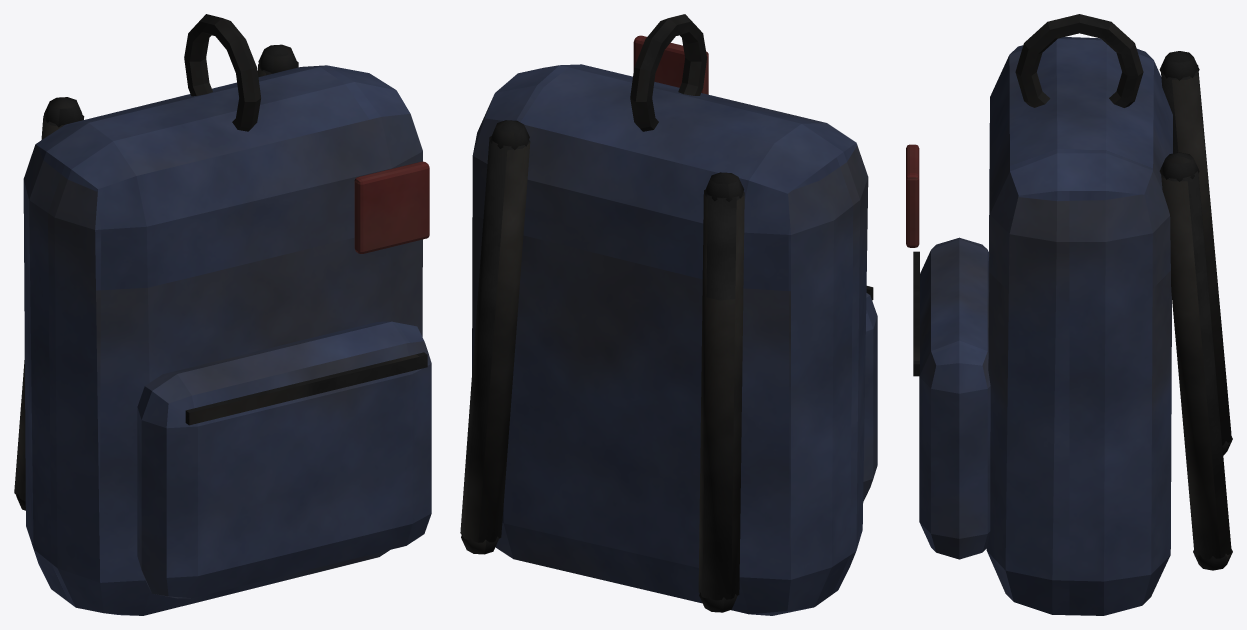
Rendered from S10_school_bag.glb.
3 views of the same model, side by side, from view 1: azimuth 30°, elevation 25°; view 2: azimuth 150°, elevation 25°; view 3: azimuth 270°, elevation 25° (orthographic). The views are drawn at different scales.
Visible parts, largest first — view 1: S10_school_bag; view 2: S10_school_bag; view 3: S10_school_bag.
Boxes of the visible parts, x1,y1,x2,y2 form: S10_school_bag: [14, 14, 431, 615]; S10_school_bag: [460, 14, 877, 615]; S10_school_bag: [906, 14, 1232, 615].
Size of the model in its own units: 0.2682 by 0.4 by 0.218.
Materials: 3 (3 with a texture image).
